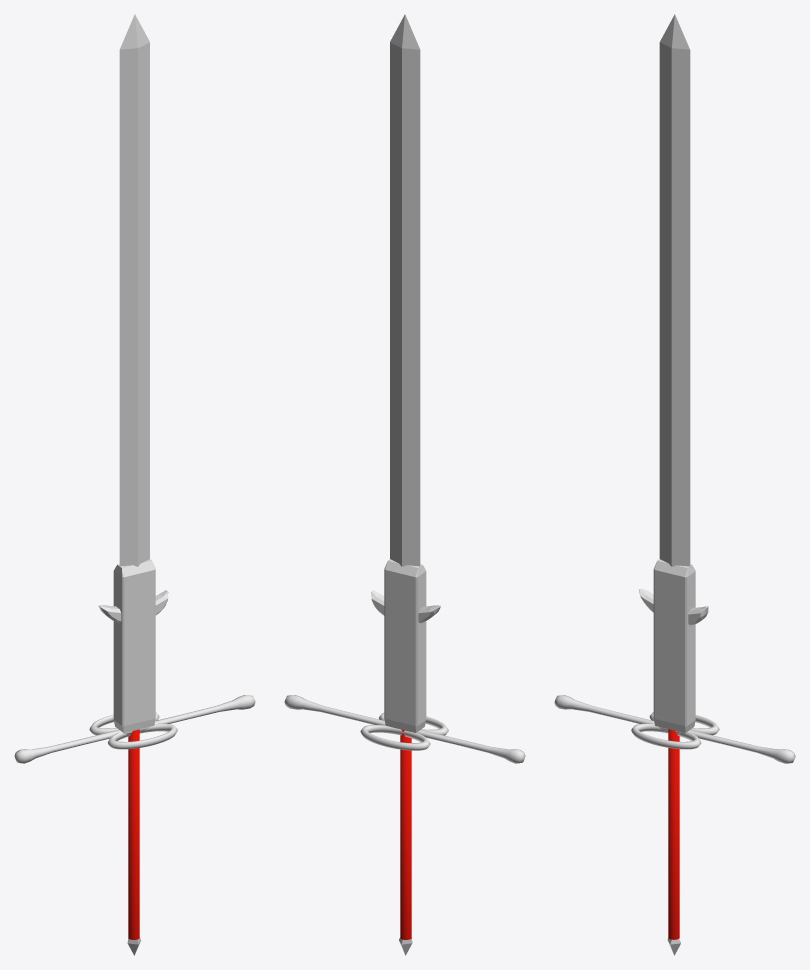
The model's file is ツヴァインヘンダー.fbx.
3 renders of one model, left to right at view 1: azimuth 30°, elevation 25°; view 2: azimuth 150°, elevation 25°; view 3: azimuth 330°, elevation 25°, orthographic.
Parts seen in each view (by area): view 1: 円; view 2: 円; view 3: 円.
Part boxes in pixels (x1,y1,x2,y2): 円: (14, 14, 255, 955); 円: (284, 14, 525, 955); 円: (554, 14, 795, 955).
Bounding box in the file's own units: 521 × 1957 × 136.
